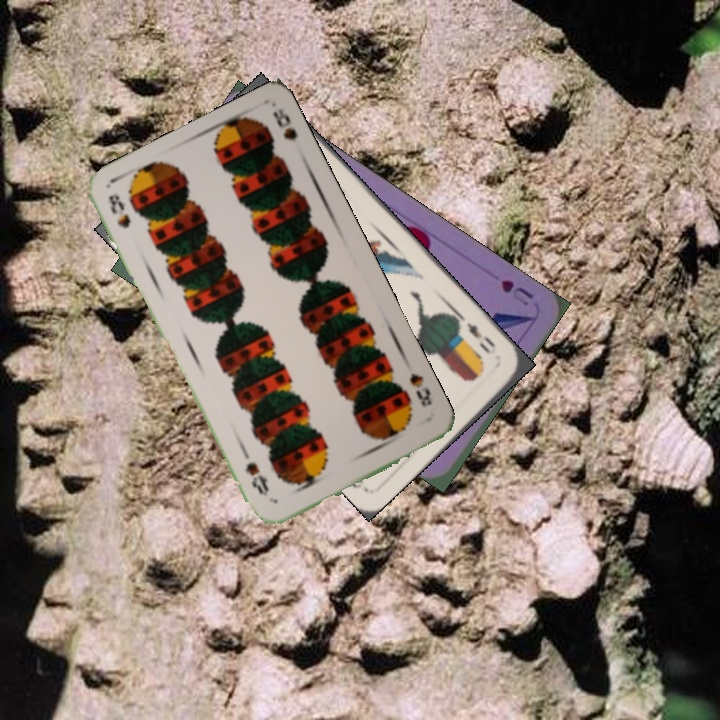EO: (462, 318, 499, 357)
HU: (496, 275, 536, 309)
S8: (405, 369, 435, 410), (104, 189, 133, 231)
